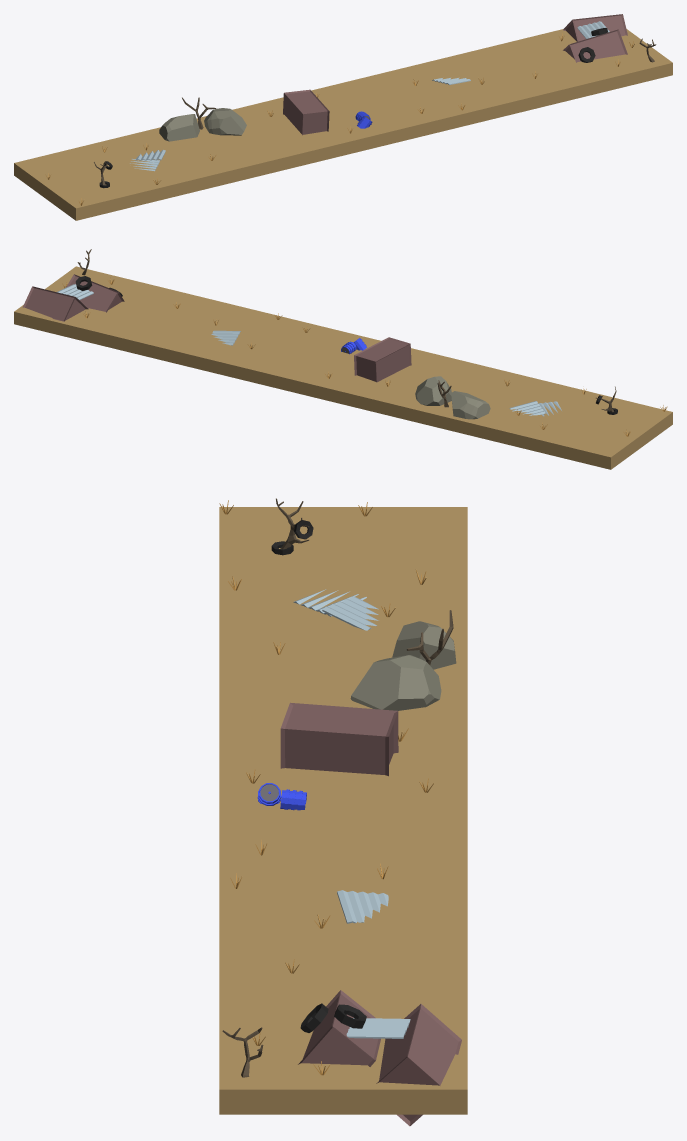
File: Fora-FerroVelho-2.glb
3 views of the same model, one above another, from view 1: azimuth 30°, elevation 25°; view 2: azimuth 150°, elevation 25°; view 3: azimuth 270°, elevation 25° (orthographic). The views are drawn at different scales.
Visible parts, largest first — view 1: CHAO.009, CONTAINER.006, CONTAINER.005, PEDRA.028, PEDRA.029, CONTAINER.004; view 2: CHAO.009, CONTAINER.006, CONTAINER.004, CONTAINER.005, PEDRA.029, PEDRA.028; view 3: CHAO.009, CONTAINER.006, CONTAINER.004, PEDRA.028, CONTAINER.005, PEDRA.029, METAL.014, METAL.011, METAL.013.
Boxes of the visible parts, x1,y1,x2,y2 form: CHAO.009: [14, 29, 672, 220]; CONTAINER.006: [283, 89, 329, 135]; CONTAINER.005: [563, 29, 627, 62]; PEDRA.028: [204, 108, 246, 135]; PEDRA.029: [159, 114, 199, 141]; CONTAINER.004: [563, 14, 627, 41]; CHAO.009: [14, 266, 672, 469]; CONTAINER.006: [354, 337, 411, 382]; CONTAINER.004: [22, 286, 88, 321]; CONTAINER.005: [66, 274, 124, 312]; PEDRA.029: [451, 391, 490, 419]; PEDRA.028: [415, 376, 451, 405]; CHAO.009: [219, 507, 467, 1114]; CONTAINER.006: [280, 702, 398, 776]; CONTAINER.004: [376, 1004, 461, 1126]; PEDRA.028: [350, 655, 441, 710]; CONTAINER.005: [298, 990, 380, 1066]; PEDRA.029: [392, 621, 456, 669]; METAL.014: [337, 890, 388, 923]; METAL.011: [322, 596, 378, 630]; METAL.013: [346, 1018, 410, 1038].
Bounding box in the file's own units: 50 × 4.03 × 9.
